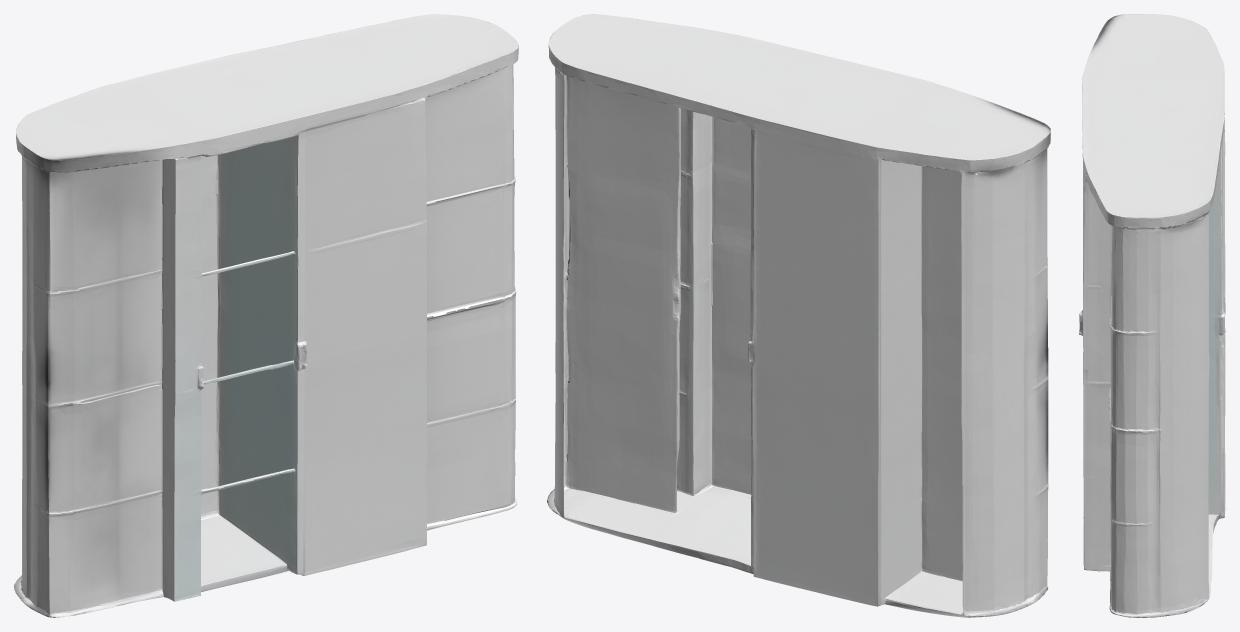
The model's file is wardrobes_19053_image_7.glb.
3 views of the same model, side by side, from view 1: azimuth 30°, elevation 25°; view 2: azimuth 150°, elevation 25°; view 3: azimuth 270°, elevation 25° (orthographic). The views are drawn at different scales.
Parts seen in each view (by area): view 1: world; view 2: world; view 3: world.
Part boxes in pixels (x1=…): world: x1=14, y1=14, x2=518, y2=617; world: x1=547, y1=14, x2=1050, y2=617; world: x1=1079, y1=14, x2=1225, y2=617.
Bounding box in the file's own units: 1 × 0.927 × 0.3044.
Materials: 1 (1 with a texture image).
